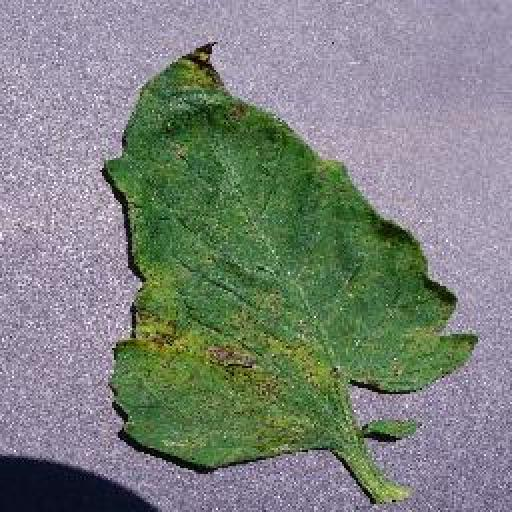Septoria: (103, 42, 477, 478)
